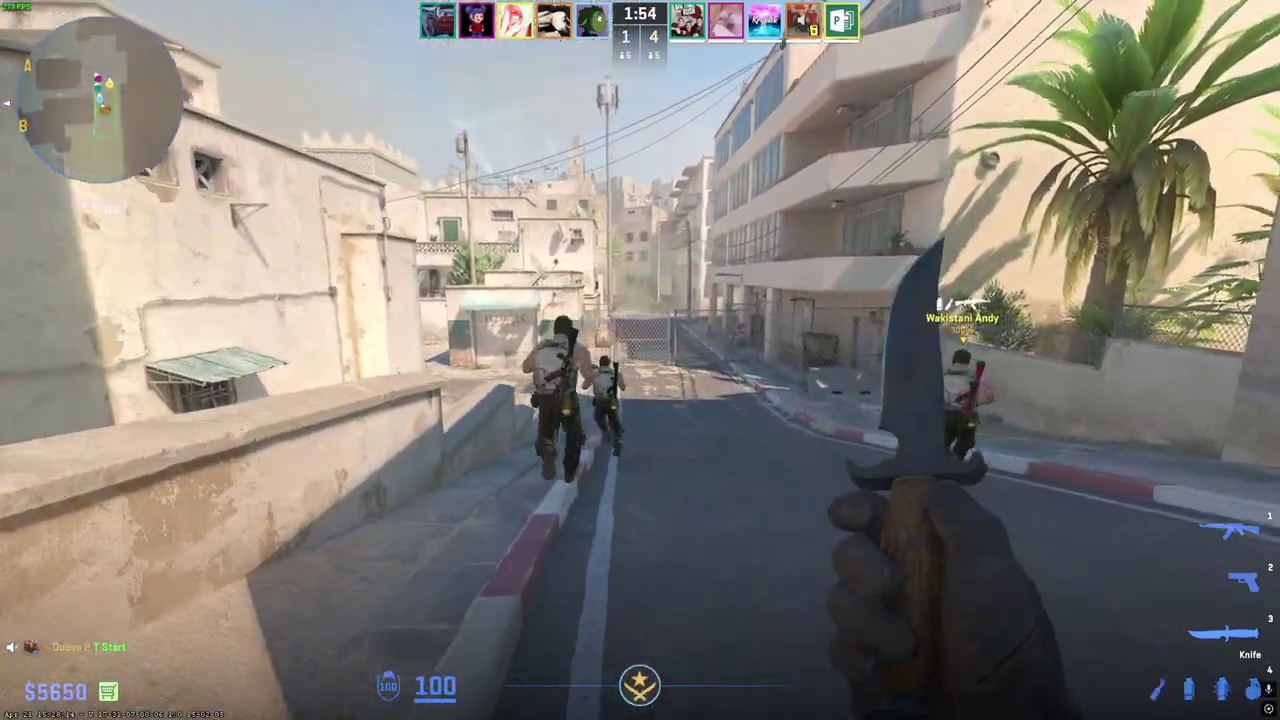Terrorist: (527, 315, 591, 483), (940, 348, 986, 460), (590, 355, 626, 454)
